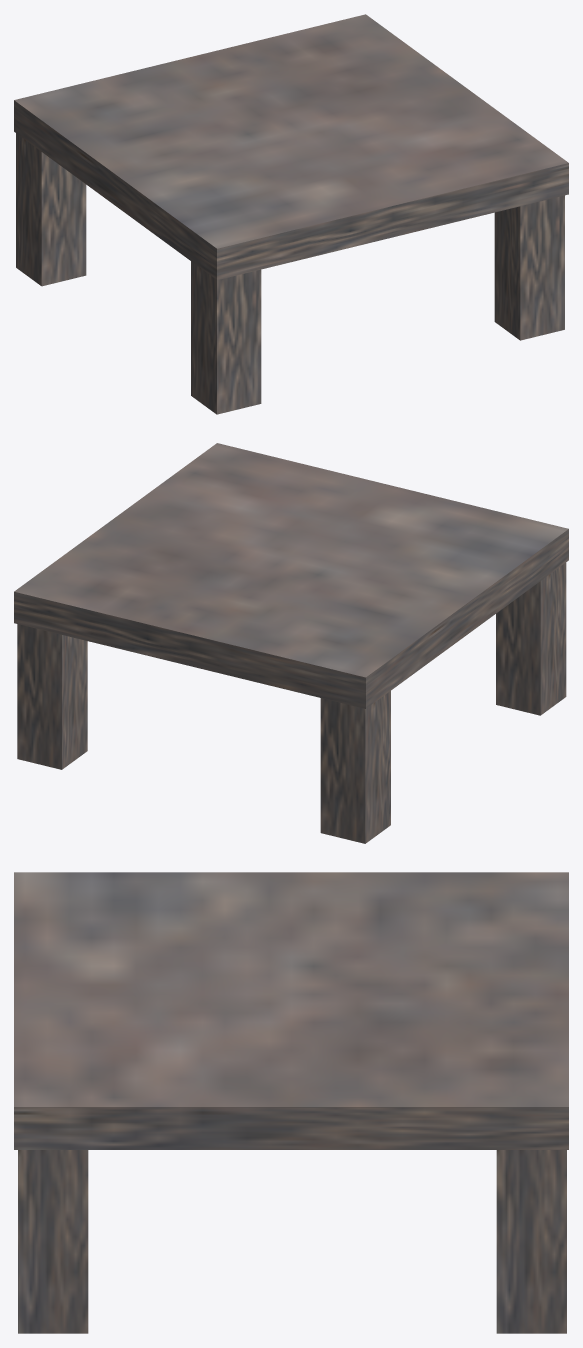
File: old table.fbx
3 views of the same model, one above another, from view 1: azimuth 30°, elevation 25°; view 2: azimuth 150°, elevation 25°; view 3: azimuth 270°, elevation 25° (orthographic). The views are drawn at different scales.
Parts seen in each view (by area): view 1: Cube; view 2: Cube; view 3: Cube.
Part boxes in pixels (x1,y1,x2,y2): Cube: (14, 14, 568, 414); Cube: (14, 443, 568, 843); Cube: (14, 872, 568, 1333).
Bounding box in the file's own units: 200 × 90.84 × 200.
